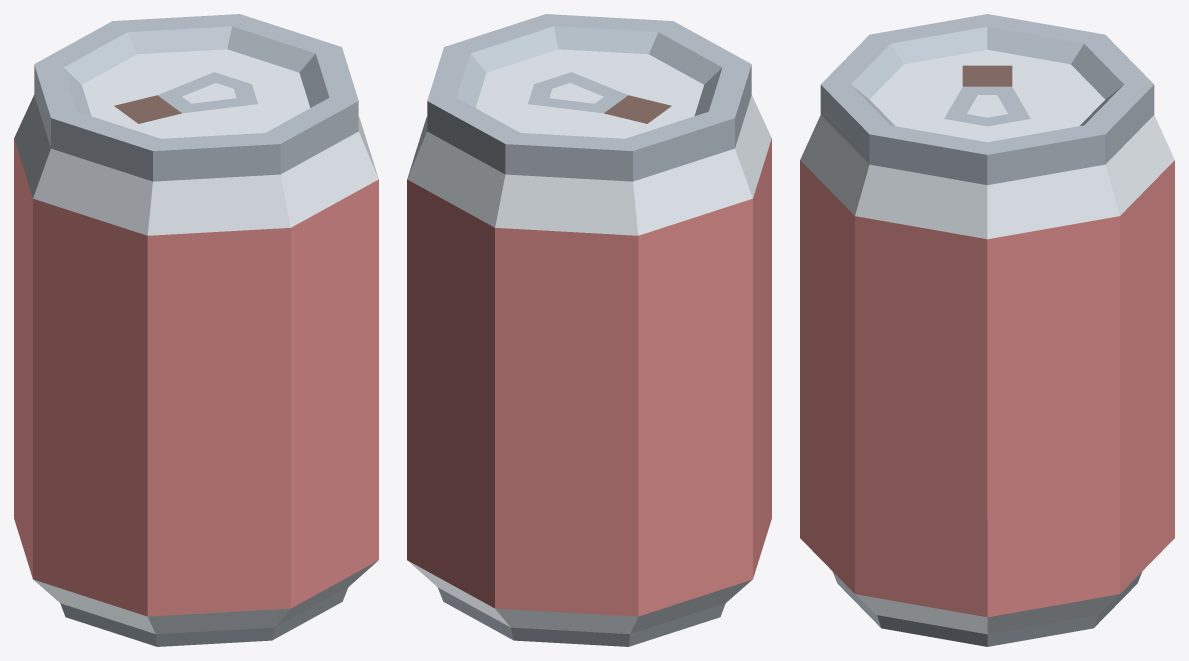
Rendered from sodaCan.glb.
3 views of the same model, side by side, from view 1: azimuth 30°, elevation 25°; view 2: azimuth 150°, elevation 25°; view 3: azimuth 270°, elevation 25° (orthographic).
Visible parts, largest first — view 1: sodaCan; view 2: sodaCan; view 3: sodaCan.
Boxes of the visible parts, x1,y1,x2,y2 form: sodaCan: (14,14,378,646); sodaCan: (407,14,771,646); sodaCan: (800,14,1174,646).
Size of the model in its own units: 0.2246 by 0.33 by 0.2246.
